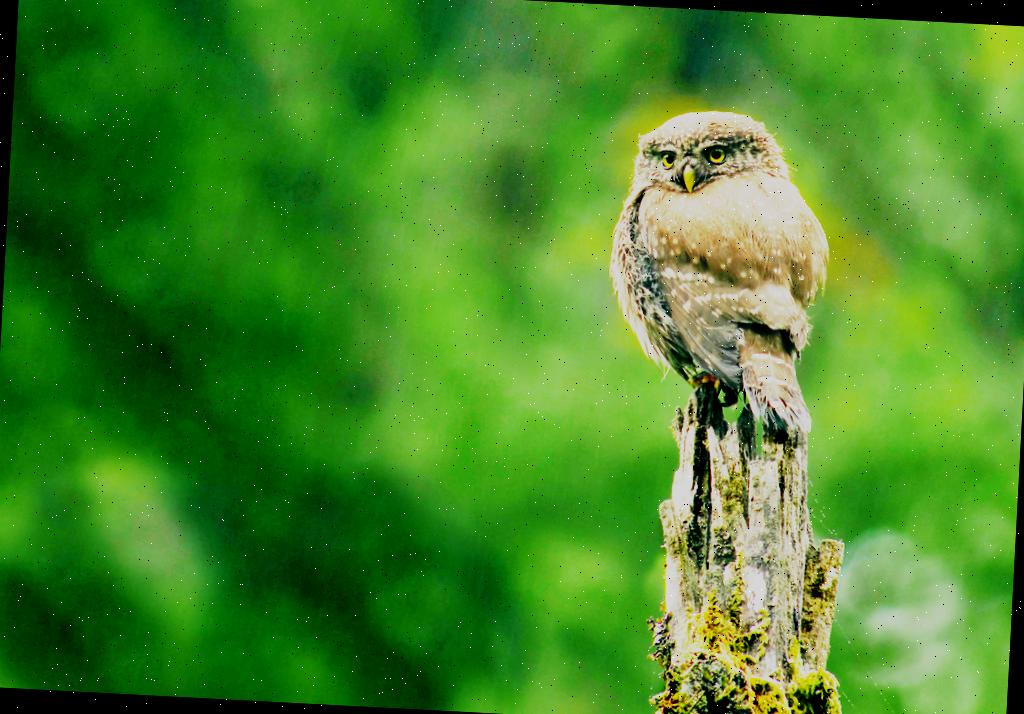Owl: (602, 97, 838, 444)
